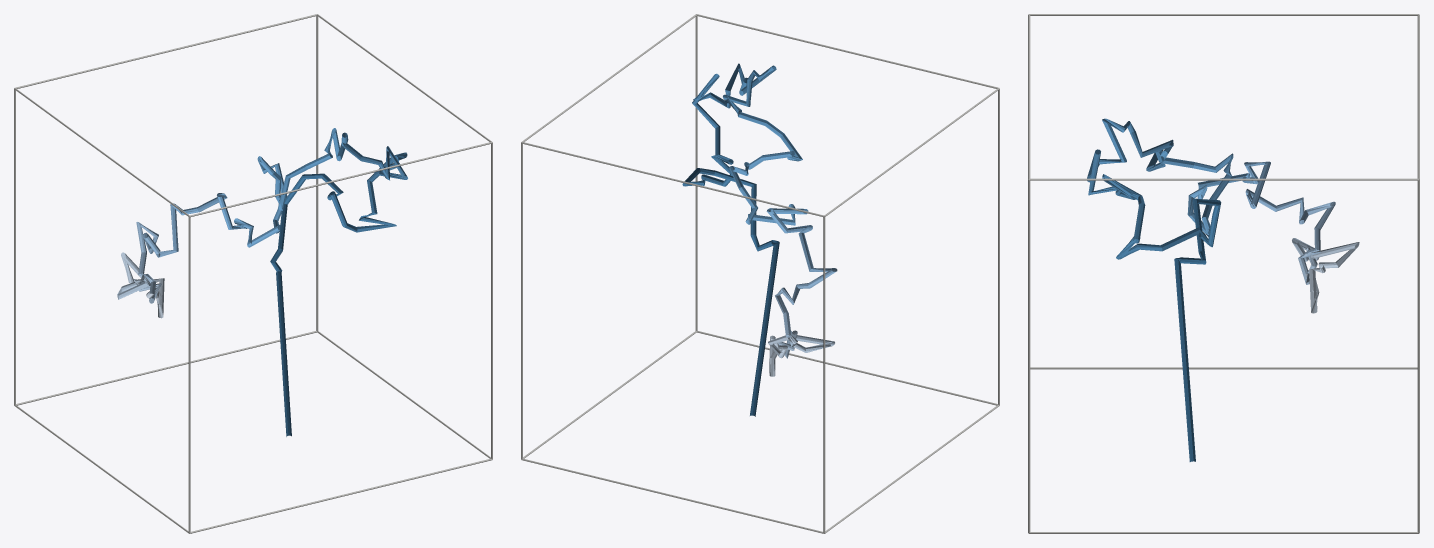
3 renders of one model, left to right at view 1: azimuth 30°, elevation 25°; view 2: azimuth 150°, elevation 25°; view 3: azimuth 270°, elevation 25°, orthographic. The views are drawn at different scales.
Visible parts, largest first — view 1: geometry_1, geometry_0; view 2: geometry_0, geometry_1; view 3: geometry_0, geometry_1.
Part boxes in pixels (left/top/right/bottom): geometry_1: left=14, top=14, right=492, bottom=533; geometry_0: left=117, top=128, right=407, bottom=436; geometry_0: left=682, top=63, right=837, bottom=416; geometry_1: left=521, top=14, right=999, bottom=533; geometry_0: left=1087, top=118, right=1359, bottom=461; geometry_1: left=1028, top=14, right=1419, bottom=533.
Size of the model in its own units: 0.3016 by 0.3032 by 0.3016.
